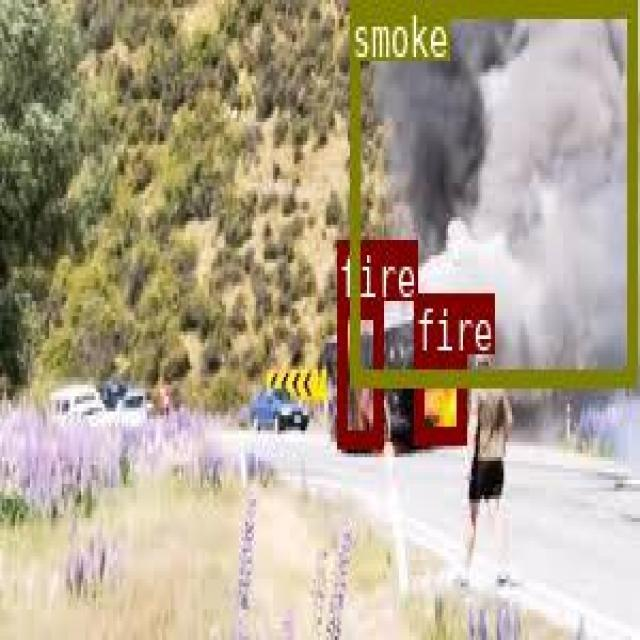fire: (336, 299, 381, 443), (413, 353, 464, 439)
smoke: (350, 0, 636, 385)
